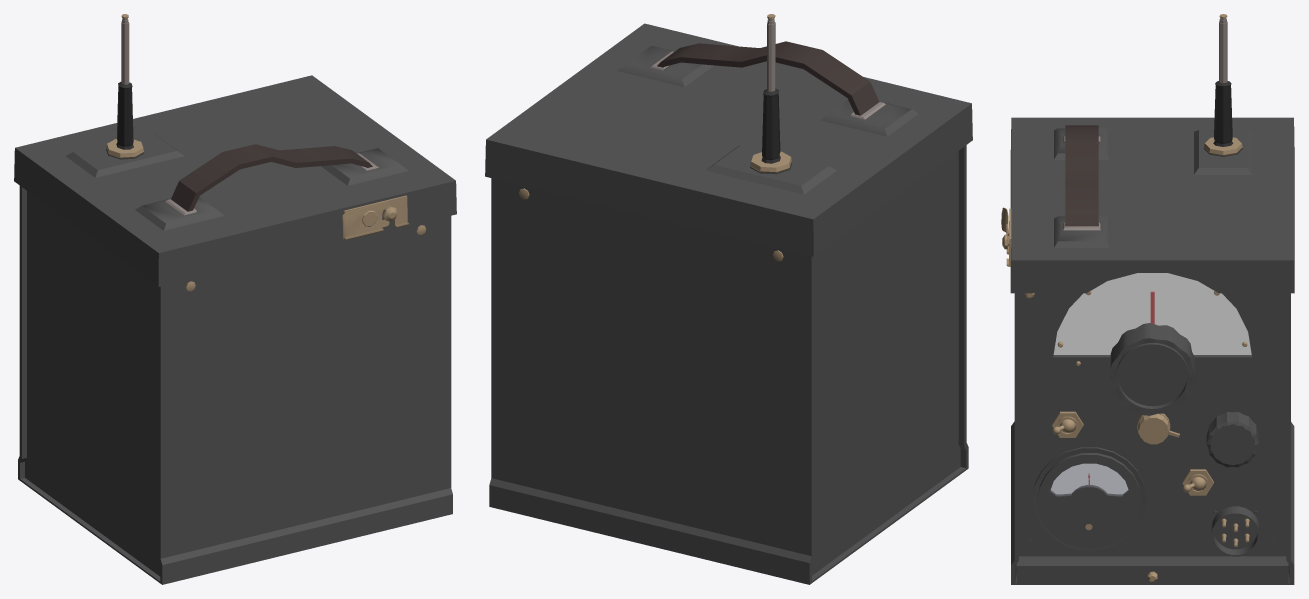
The model's file is Radio.fbx.
3 renders of one model, left to right at view 1: azimuth 30°, elevation 25°; view 2: azimuth 150°, elevation 25°; view 3: azimuth 270°, elevation 25°, orthographic. The views are drawn at different scales.
Visible parts, largest first — view 1: Radio.002; view 2: Radio.002; view 3: Radio.002, RadioStationMeter, turnButton, volume, antenne.
Part boxes in pixels (x1,y1,x2,y2): Radio.002: [14, 75, 456, 584]; Radio.002: [485, 23, 972, 584]; Radio.002: [1001, 81, 1294, 584]; RadioStationMeter: [1110, 291, 1195, 415]; turnButton: [1206, 412, 1258, 467]; volume: [1137, 413, 1179, 444]; antenne: [1219, 21, 1227, 83].
Bounding box in the file's own units: 22.49 × 32.82 × 18.78.
